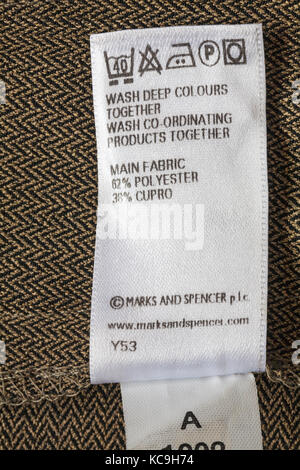ER_dry_clean_chemical: (196, 37, 221, 66)
ER_iron_medium_temp: (163, 40, 197, 71)
ER_no_bleach: (136, 43, 163, 75)
ER_tumble_dry: (221, 37, 250, 66)
ER_wash_40_mild: (98, 46, 136, 86)
